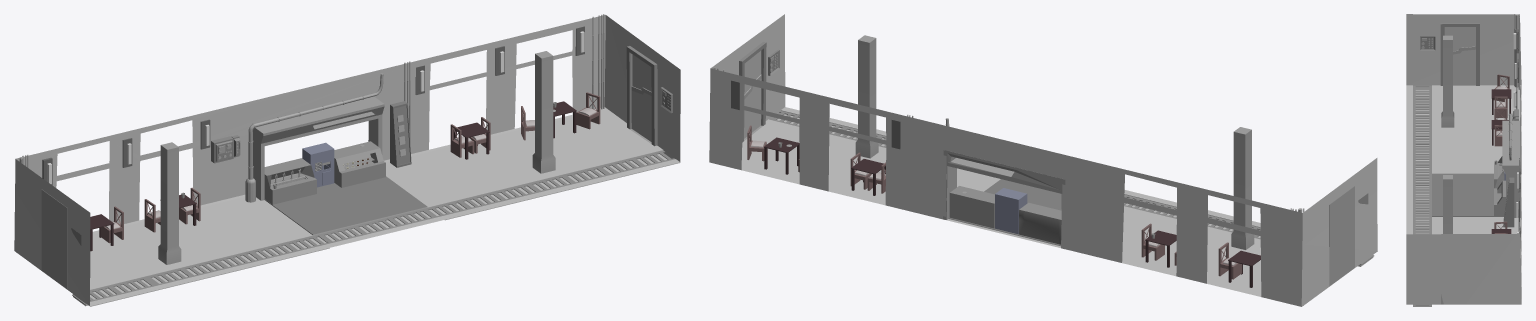
The model's file is Hallway interior.fbx.
The picture shows the model from 3 angles, left to right: view 1: azimuth 30°, elevation 25°; view 2: azimuth 150°, elevation 25°; view 3: azimuth 270°, elevation 25°; orthographic projection. The views are drawn at different scales.
Visible parts, largest first — view 1: pasted__pasted__pCube1, pCube2, pasted__pasted__pasted__group94_pasted__pasted__pasted__pCub (×2), pasted__pasted__pasted__pCube5, pCube27, pasted__pCube27, pasted__pasted__pCube5, pCube3, pasted__pCube3, pasted__group94_pasted__pasted__pasted__pCube26, pCylinder10, pCube18 (+7 smaller); view 2: pasted__pasted__pCube1, pCube2, pasted__pCube27, pCube27, pasted__pasted__pCube5, pasted__pasted__pasted__pCube5, pasted__pCube3, pCube3, pCube4, pasted__pCube14 (×2), pasted__pasted__pCube14, pCube14 (+1 smaller); view 3: pasted__pasted__pCube1, pasted__pasted__pCube5, pasted__pasted__pasted__group94_pasted__pasted__pasted__pCub (×2), pCube2, pCube27, pasted__group94_pasted__pasted__pasted__pCube26, pasted__pCube27, pasted__pasted__pCube11 (×3), pasted__pCube26, pCube18, pasted__pCube14 (×2), pasted__pCube3 (+9 smaller).
Boxes of the visible parts, box(x1,y1,x2,y2) form: pasted__pasted__pCube1: box(14, 15, 680, 306); pCube2: box(253, 96, 384, 200); pasted__pasted__pasted__group94_pasted__pasted__pasted__pCub (×2): box(286, 175, 574, 251); pasted__pasted__pasted__pCube5: box(626, 46, 657, 146); pCube27: box(158, 142, 181, 264); pasted__pCube27: box(532, 51, 555, 173); pasted__pasted__pCube5: box(41, 189, 67, 289); pCube3: box(264, 158, 316, 204); pasted__pCube3: box(334, 141, 385, 187); pasted__group94_pasted__pasted__pasted__pCube26: box(145, 242, 297, 285); pCylinder10: box(245, 73, 383, 202); pCube18: box(390, 101, 411, 167); pasted__pasted__pCube1: box(709, 14, 1377, 306); pCube2: box(943, 150, 1065, 219); pasted__pCube27: box(855, 35, 878, 158); pCube27: box(1231, 127, 1254, 249); pasted__pasted__pCube5: box(1329, 186, 1354, 286); pasted__pasted__pasted__pCube5: box(739, 41, 766, 142); pasted__pCube3: box(949, 186, 994, 228); pCube3: box(1019, 202, 1061, 244); pCube4: box(995, 188, 1027, 234); pasted__pCube14 (×2): box(1145, 230, 1260, 287); pasted__pasted__pCube14: box(764, 137, 799, 174); pCube14: box(851, 159, 885, 195); pasted__pasted__pCube1: box(1406, 14, 1521, 306); pasted__pasted__pCube5: box(1440, 23, 1479, 85); pasted__pasted__pasted__group94_pasted__pasted__pasted__pCub (×2): box(1413, 164, 1431, 234); pCube2: box(1502, 120, 1521, 217); pCube27: box(1441, 35, 1454, 127); pasted__group94_pasted__pasted__pasted__pCube26: box(1413, 112, 1431, 164); pasted__pCube27: box(1443, 175, 1452, 233); pasted__pasted__pCube11 (×3): box(1494, 96, 1507, 146); pasted__pCube26: box(1413, 85, 1431, 111); pCube18: box(1503, 177, 1514, 227); pasted__pCube14 (×2): box(1491, 89, 1511, 145); pasted__pCube3: box(1494, 180, 1505, 215).
Size of the model in its own units: 40.33 by 7.64 by 8.93.
